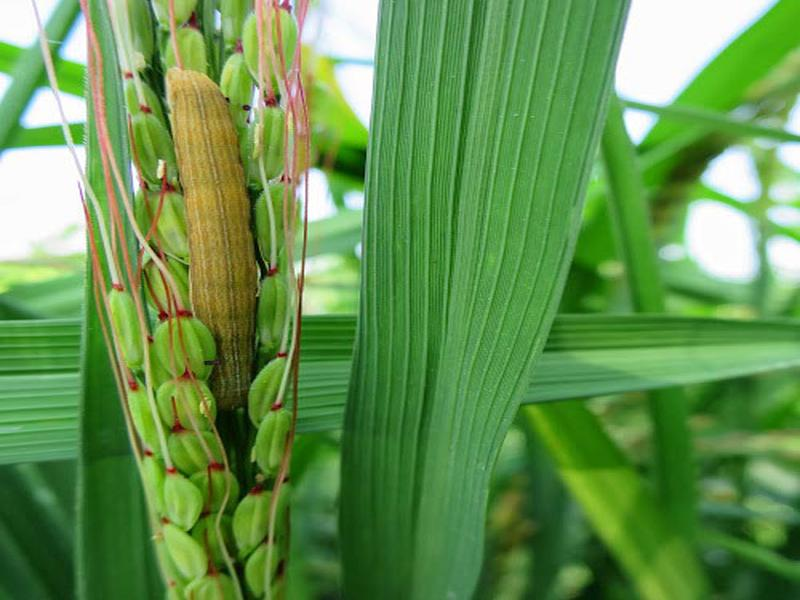Rice_case_worm: (122, 51, 301, 497)
